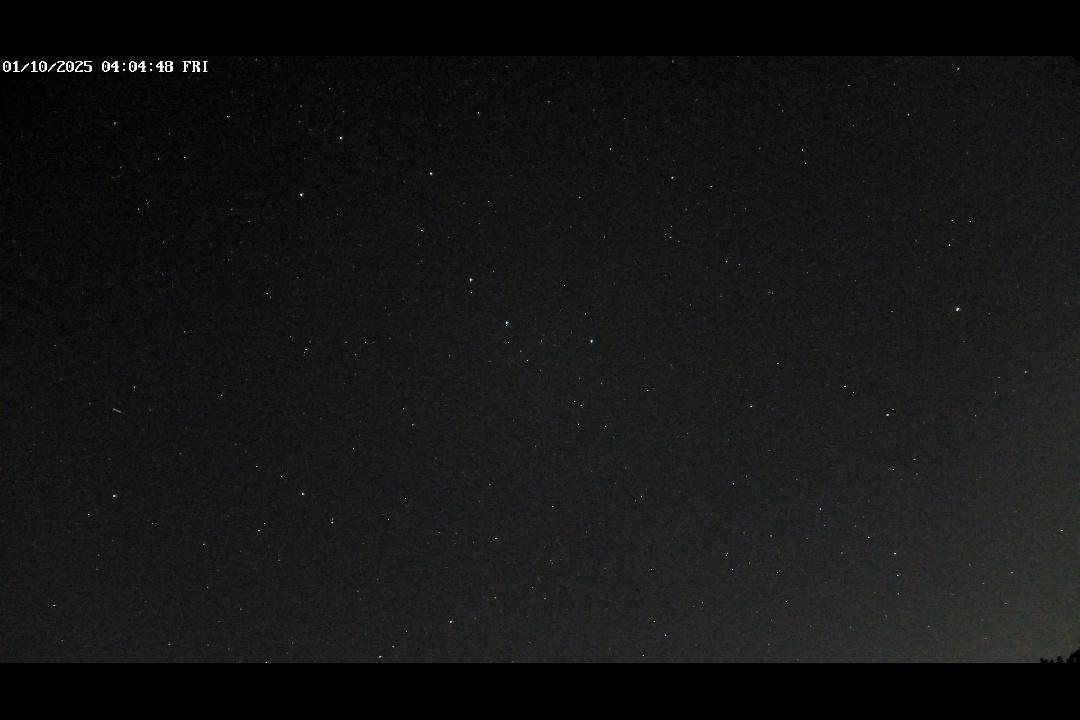meteorite: (111, 406, 131, 419)
